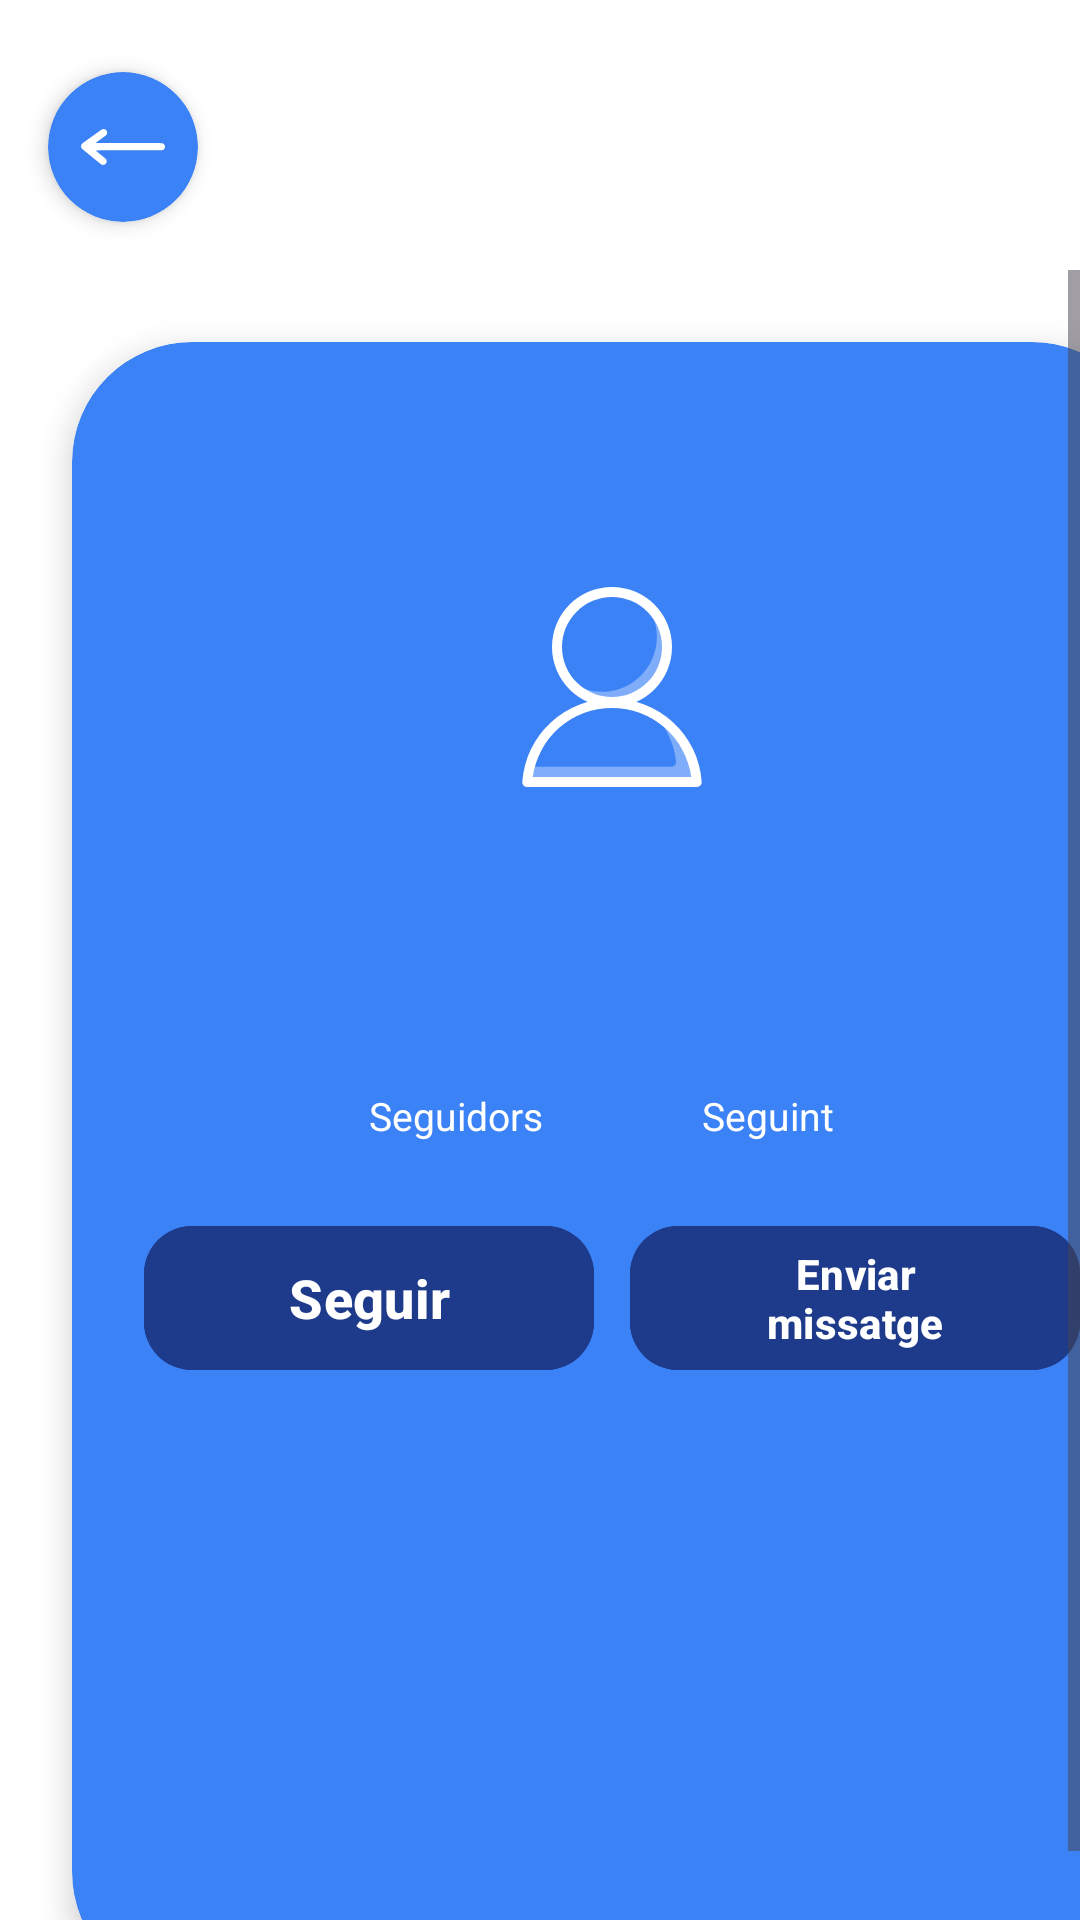

Screen size 1080x1920. Icon name, then its center in pixels as point (x, y):
flecha: point (123, 147)
